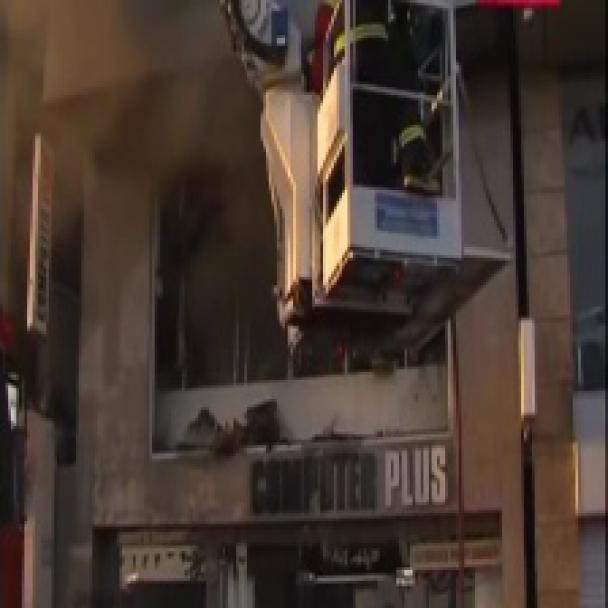smoke: (1, 2, 470, 368)
